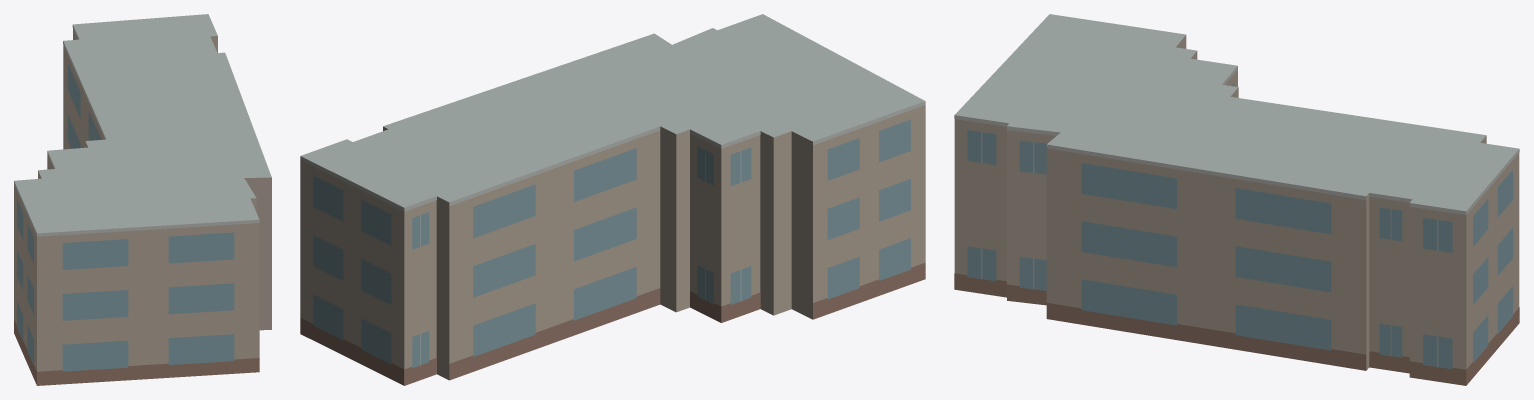
File: survey-upis-32627728.glb
The picture shows the model from 3 angles, left to right: view 1: azimuth 30°, elevation 25°; view 2: azimuth 150°, elevation 25°; view 3: azimuth 270°, elevation 25°; orthographic projection. The views are drawn at different scales.
Visible parts, largest first — view 1: survey-upis-32627728.tmp; view 2: survey-upis-32627728.tmp; view 3: survey-upis-32627728.tmp.
Boxes of the visible parts, left/top/right/bottom form: survey-upis-32627728.tmp: left=14, top=14, right=271, bottom=385; survey-upis-32627728.tmp: left=300, top=14, right=925, bottom=385; survey-upis-32627728.tmp: left=954, top=14, right=1519, bottom=385.
Size of the model in its own units: 26.81 by 11.05 by 32.43.
